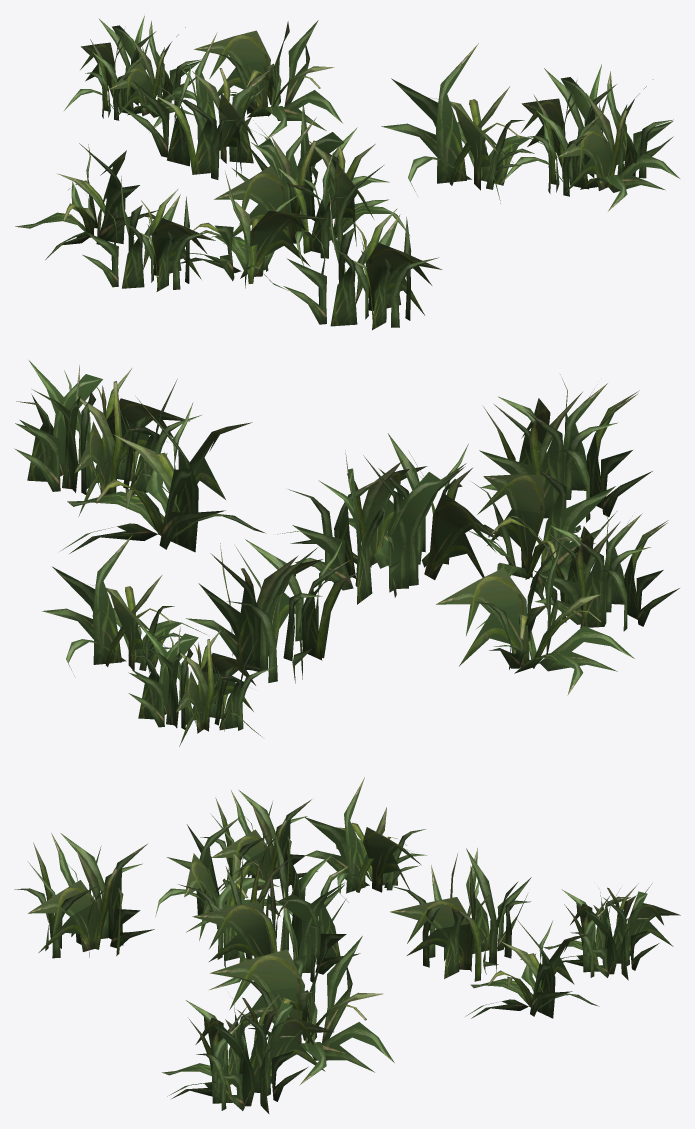
The model's file is Weed01.FBX.
3 renders of one model, top to bottom at view 1: azimuth 30°, elevation 25°; view 2: azimuth 150°, elevation 25°; view 3: azimuth 270°, elevation 25°, orthographic. The views are drawn at different scales.
Visible parts, largest first — view 1: LV_Spechia_Foliage_CityGrass02_PM_SMK; view 2: LV_Spechia_Foliage_CityGrass02_PM_SMK; view 3: LV_Spechia_Foliage_CityGrass02_PM_SMK.
Boxes of the visible parts, x1,y1,x2,y2 form: LV_Spechia_Foliage_CityGrass02_PM_SMK: (15, 16, 679, 330); LV_Spechia_Foliage_CityGrass02_PM_SMK: (14, 360, 679, 746); LV_Spechia_Foliage_CityGrass02_PM_SMK: (14, 777, 680, 1113).
Bounding box in the file's own units: 90.45 × 19.13 × 92.5.
